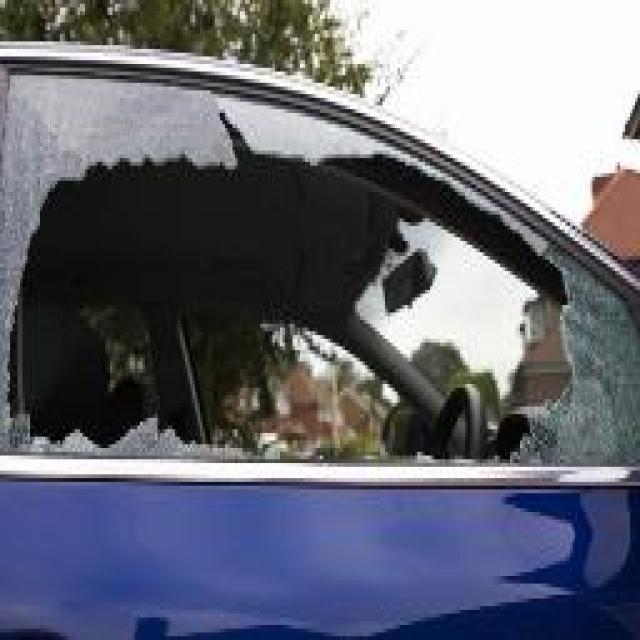Door: (0, 45, 640, 640)
